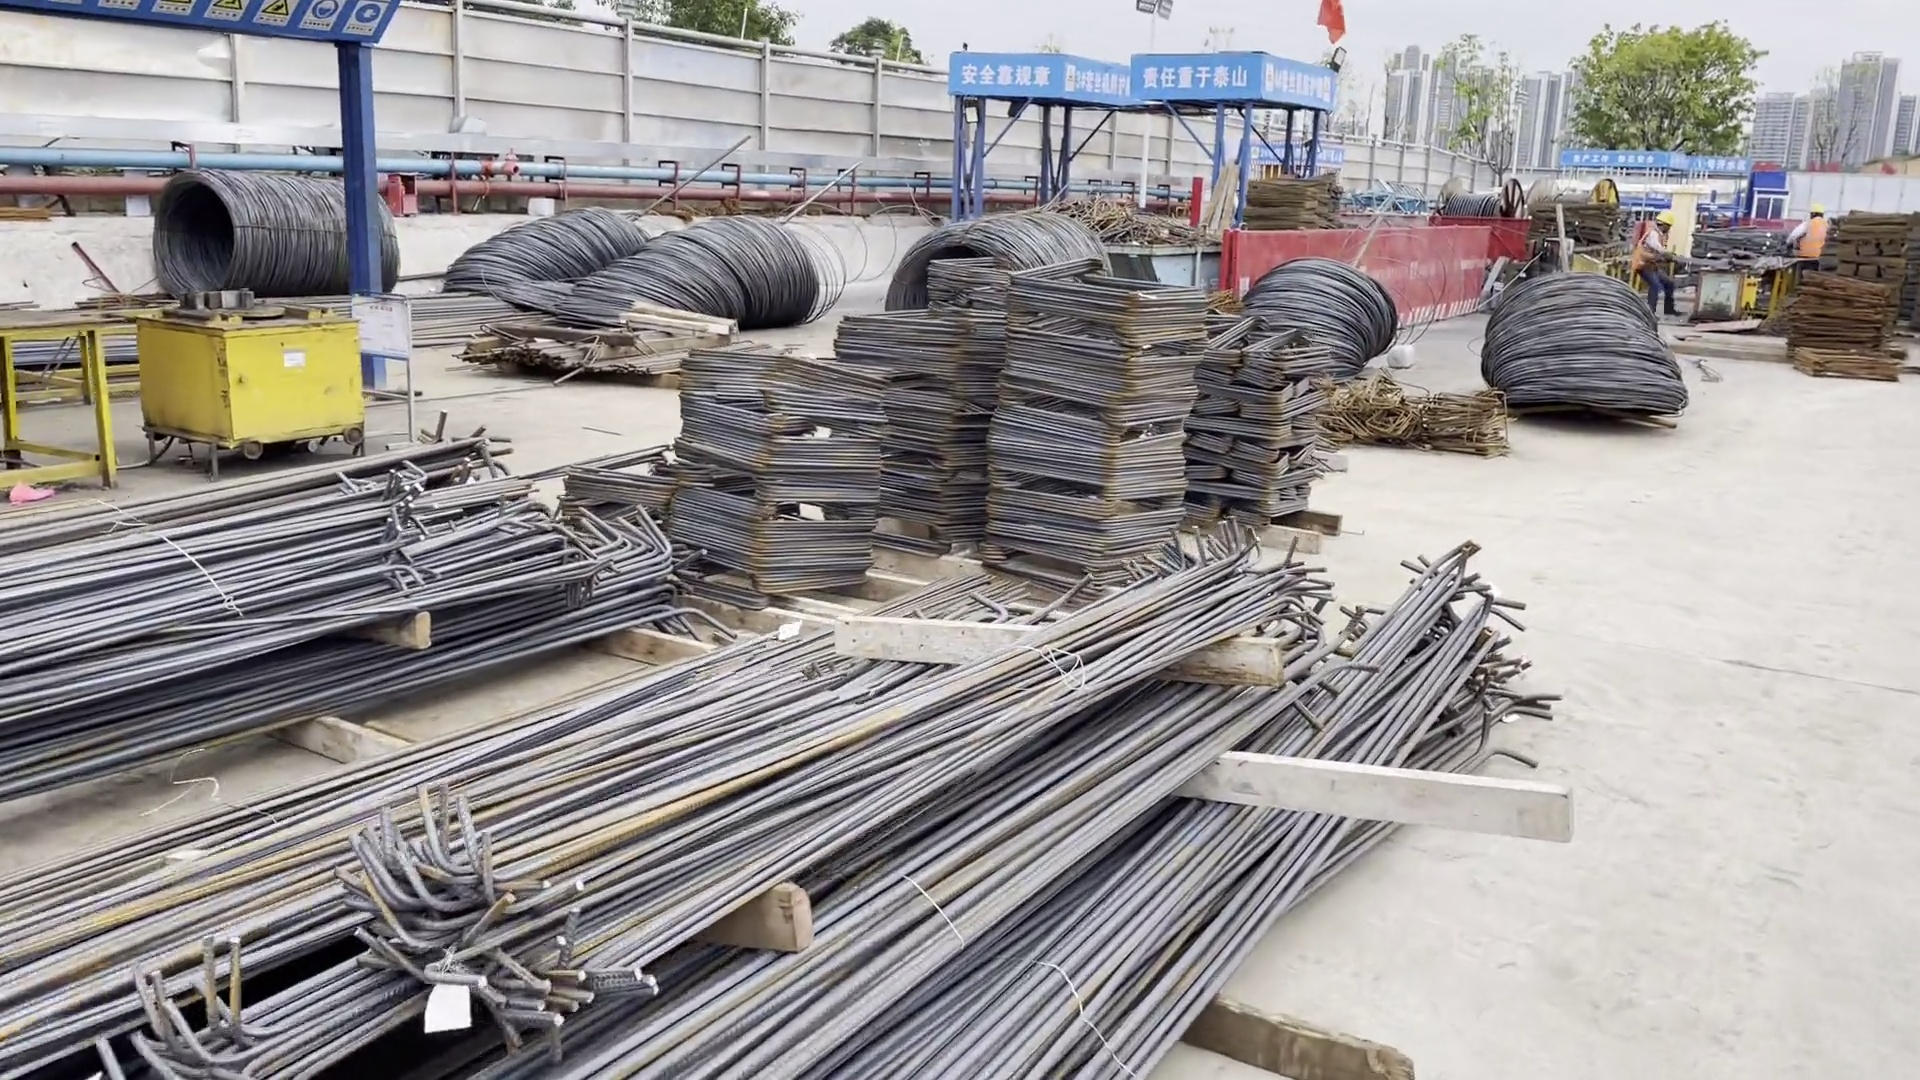cutter: (119, 268, 376, 468), (1691, 253, 1769, 315)
fence: (1223, 227, 1500, 338)
helmet: (1654, 209, 1679, 228), (1807, 202, 1831, 218)
hopper: (1083, 205, 1234, 292)
person: (1639, 192, 1692, 316), (1790, 176, 1832, 287)
rebar: (1, 534, 1632, 1080), (3, 418, 677, 754)
slogan: (1, 1, 421, 73), (1122, 42, 1337, 128), (933, 38, 1127, 122), (345, 278, 446, 393), (1558, 131, 1691, 189), (1244, 134, 1346, 176), (1688, 130, 1748, 196)
vest: (1629, 224, 1674, 286), (1788, 220, 1832, 272)
